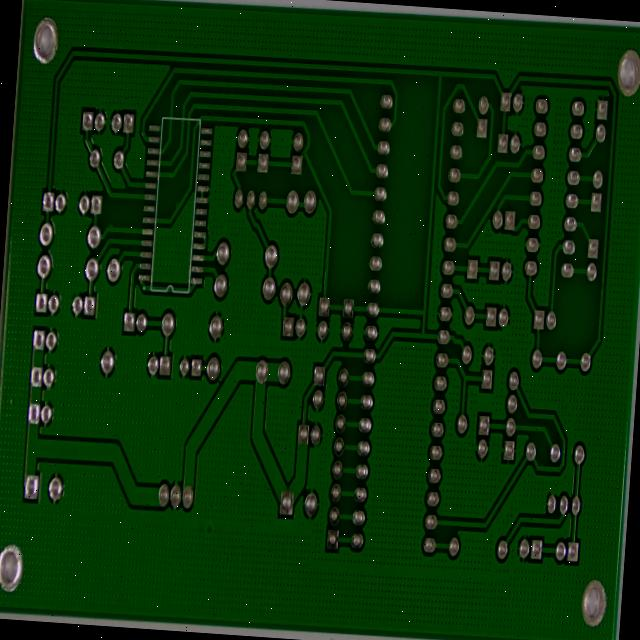spur: (107, 203, 118, 225), (174, 180, 185, 201)
